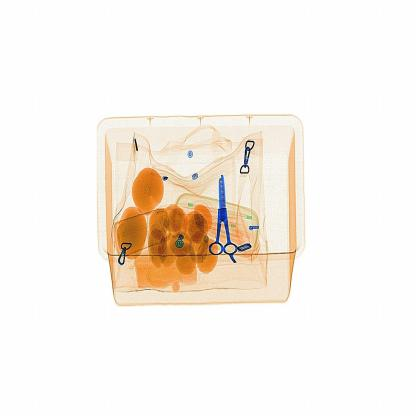gun: (200, 169, 242, 260)
